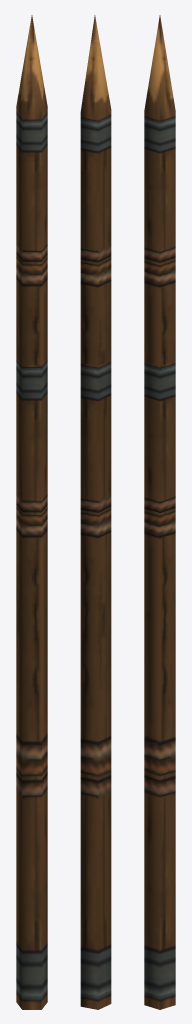
The model's file is 2_Loading_QiZhi_02.FBX.
3 renders of one model, left to right at view 1: azimuth 90°, elevation 25°; view 2: azimuth 210°, elevation 25°; view 3: azimuth 270°, elevation 25°, orthographic.
Parts seen in each view (by area): view 1: 2_Loading_QiZhi_02; view 2: 2_Loading_QiZhi_02; view 3: 2_Loading_QiZhi_02.
Boxes of the visible parts, x1=… form: 2_Loading_QiZhi_02: x1=16, y1=15, x2=47, y2=1009; 2_Loading_QiZhi_02: x1=80, y1=15, x2=111, y2=1009; 2_Loading_QiZhi_02: x1=144, y1=15, x2=175, y2=1009.
Bounding box in the file's own units: 20.91 × 766 × 21.99.
Materials: 1 (1 with a texture image).
